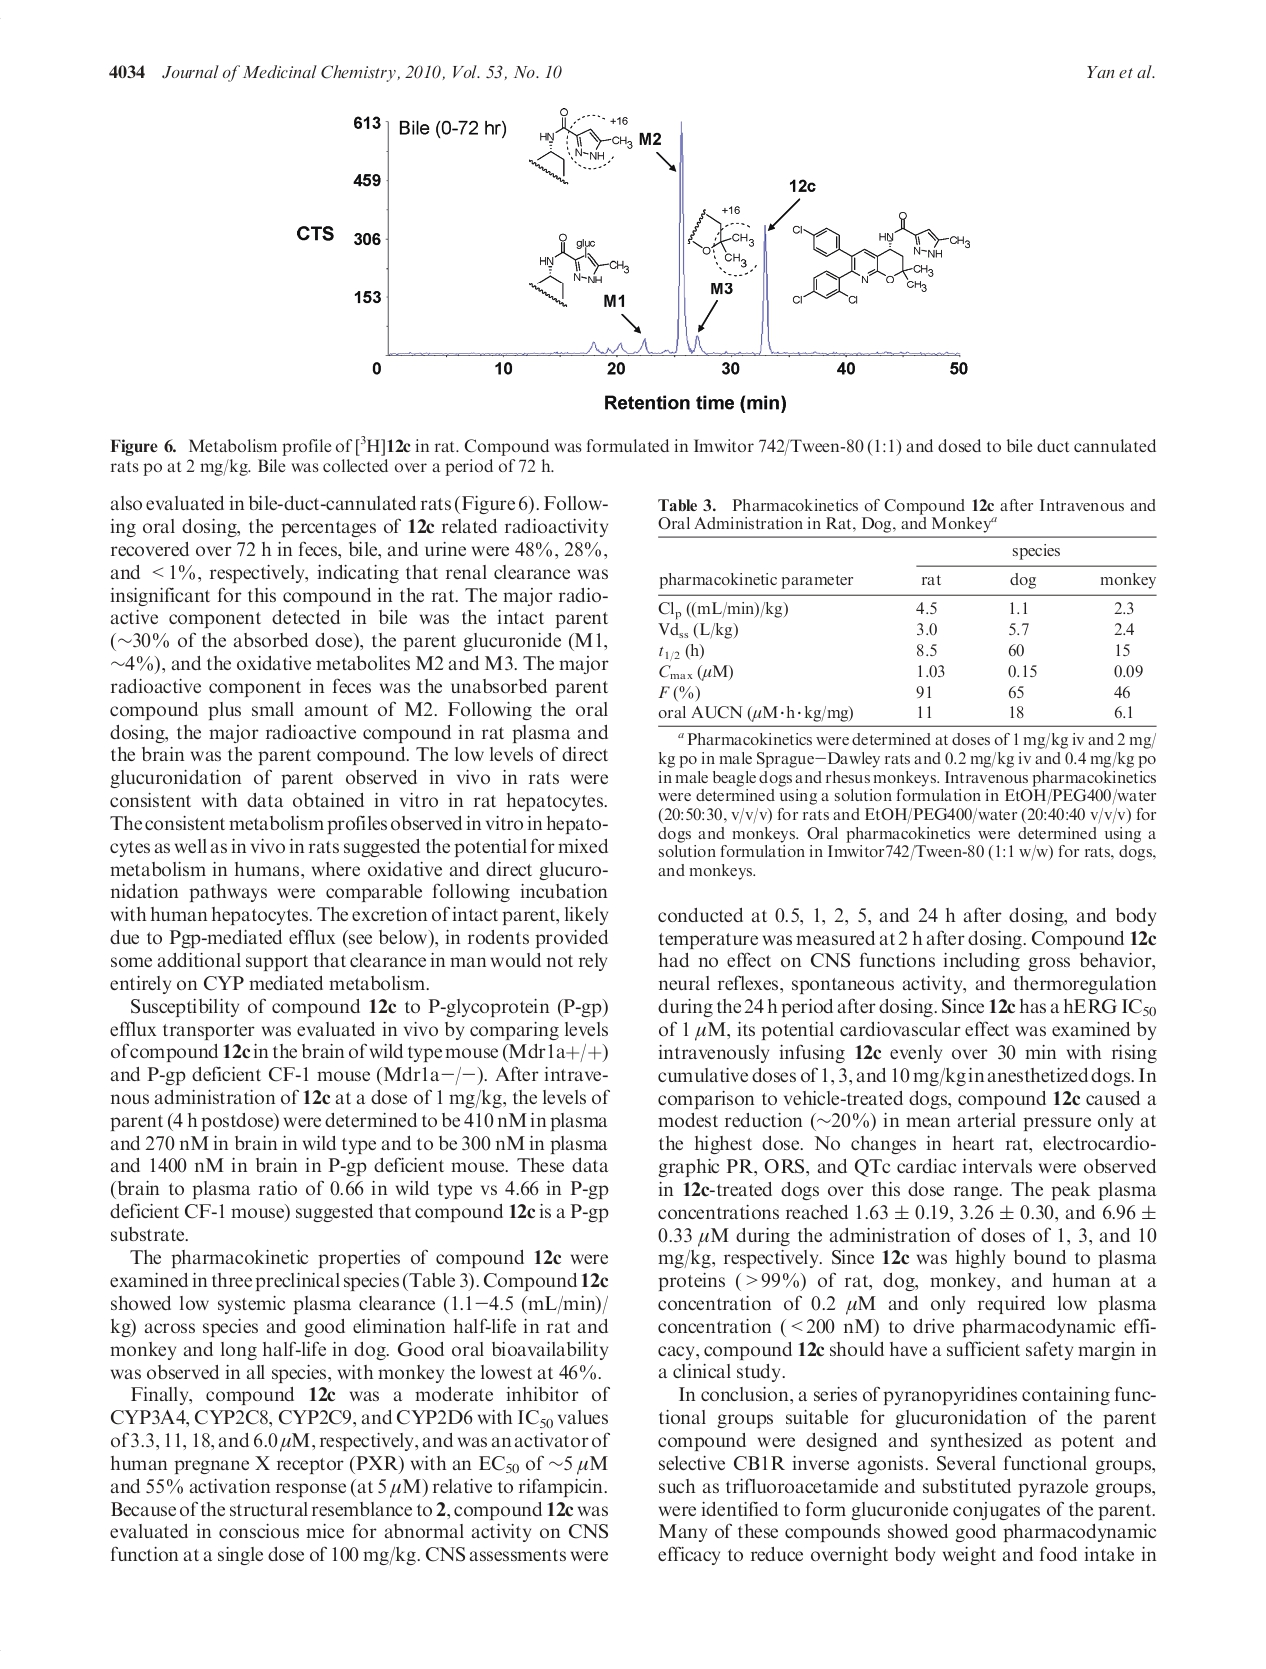exist_molecular: (789, 203, 977, 310), (525, 104, 633, 186), (528, 229, 630, 309), (684, 197, 758, 279)
